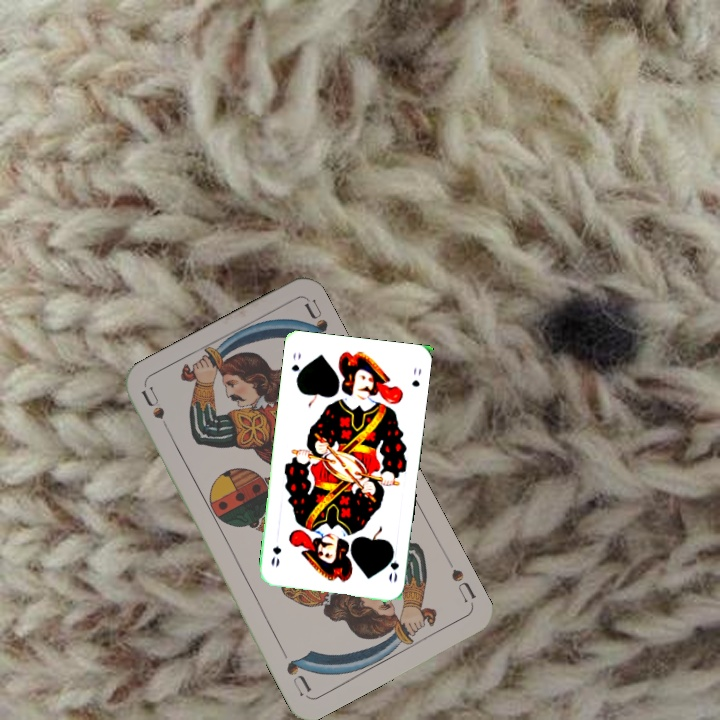GO: (383, 546, 402, 585), (287, 348, 304, 386)
SU: (447, 565, 479, 605), (137, 383, 167, 422)
